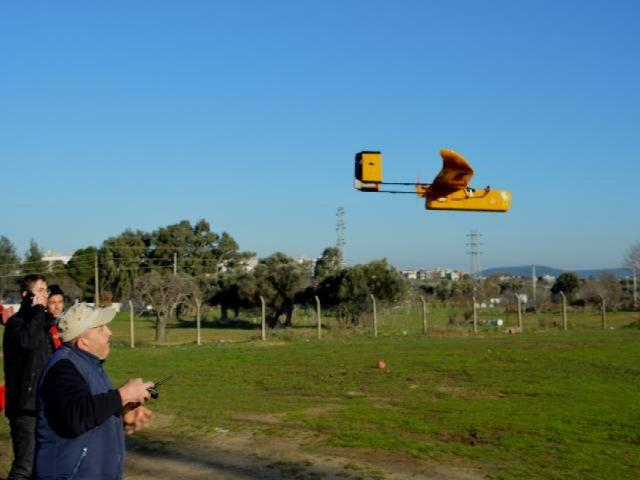iha: (352, 141, 519, 214)
